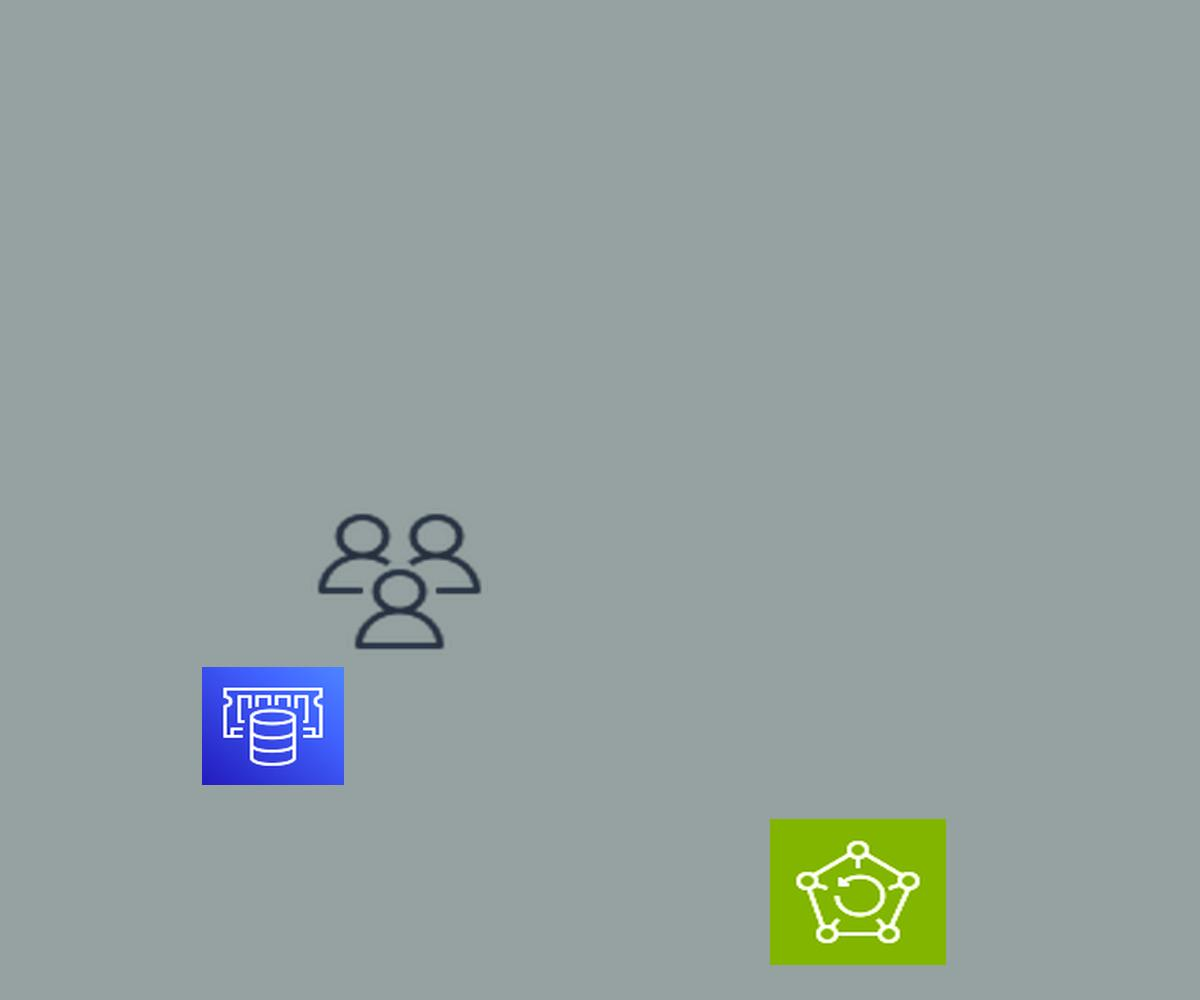AWS-Backup: (770, 819, 946, 965)
AWS-ElastiCache: (202, 667, 344, 785)
AWS-Res_Users: (311, 508, 488, 655)
